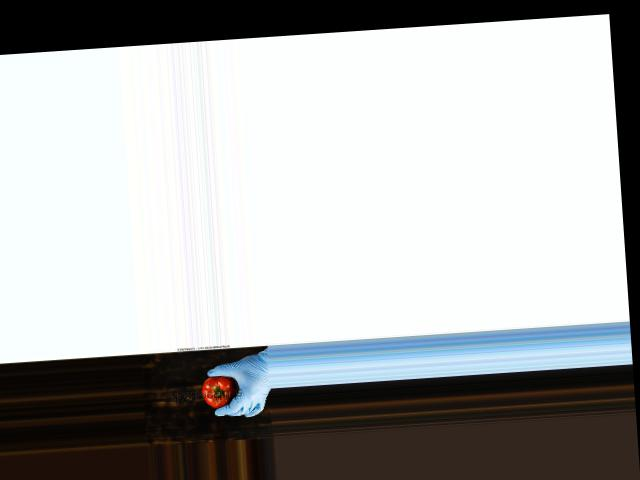tomato: (199, 374, 237, 409)
